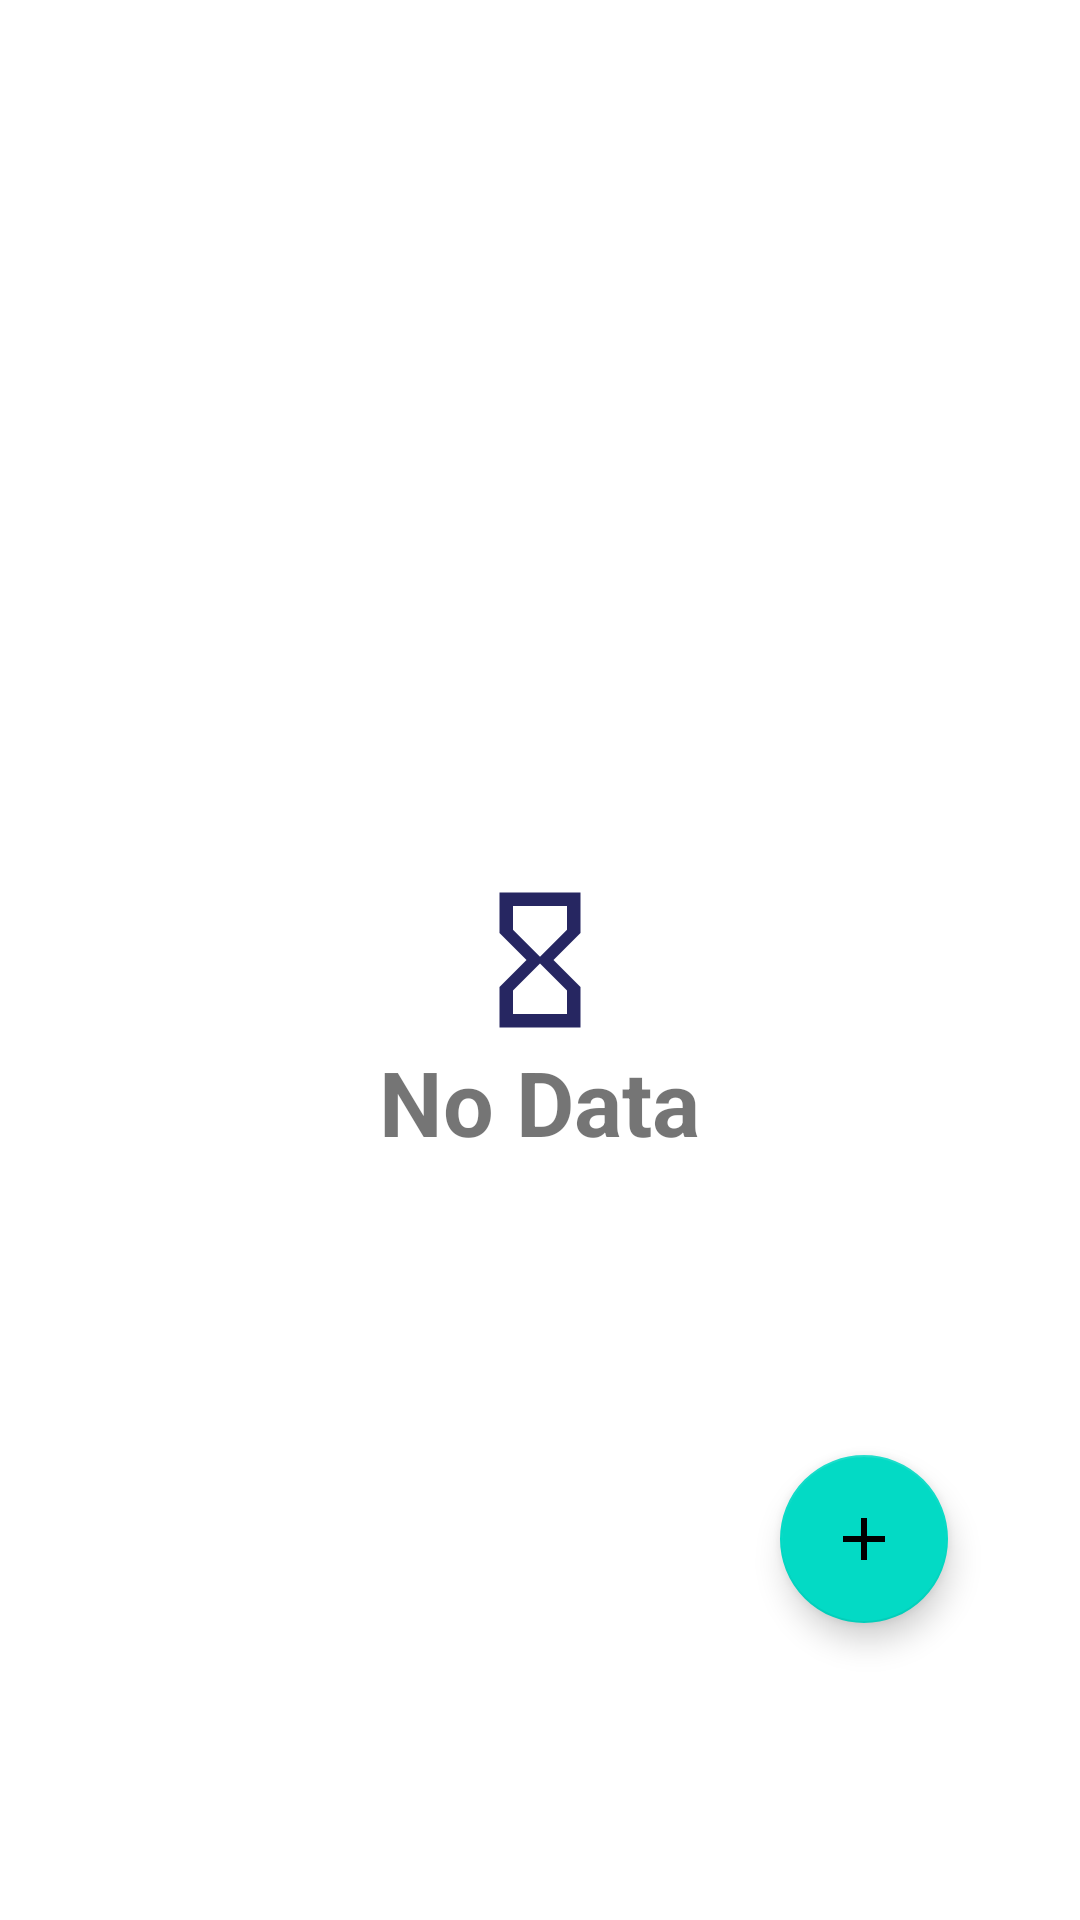

Where icons sit on this 1080 × 1920 app screen, as (x1, y1, x2, y2):
add: (780, 1455, 948, 1623)
